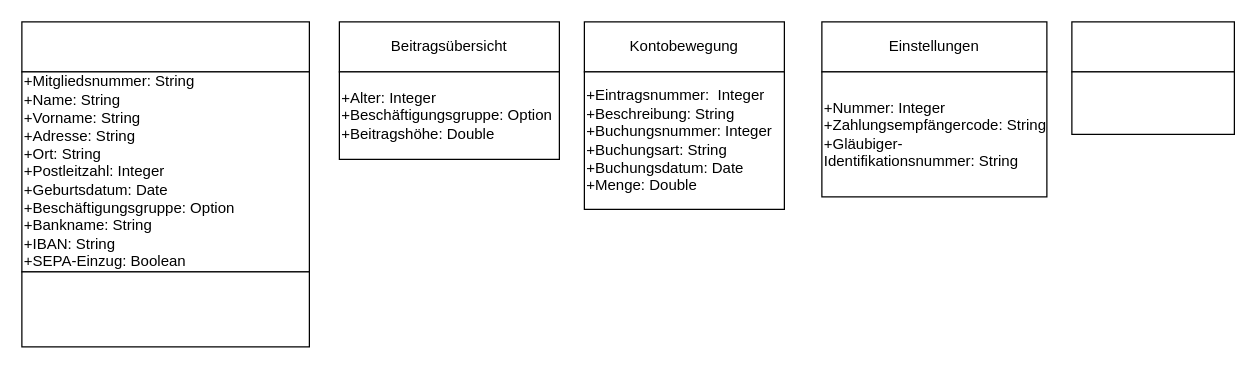
The diagram is 1256 pixels wide and 369 high, and some of its shapes have lost their labels. Each missing label, with the box of its shape:
+Beitreten() -Austreten() -Mitgliedsbeitrag Bezahlen(): (21, 271, 309, 347)
Buchblatt: (1071, 21, 1234, 72)
Mitglied: (21, 21, 309, 72)
Zeilennummer: Integer Betrag: Double: (1071, 71, 1234, 134)
